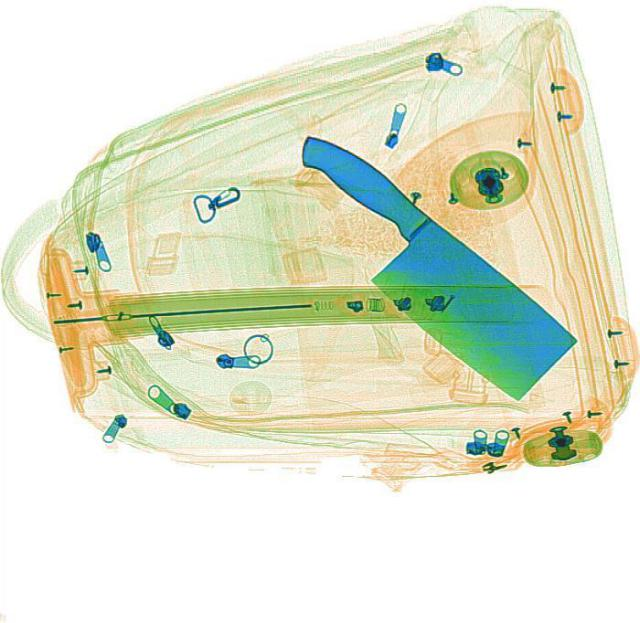Knife: (247, 119, 585, 404)
